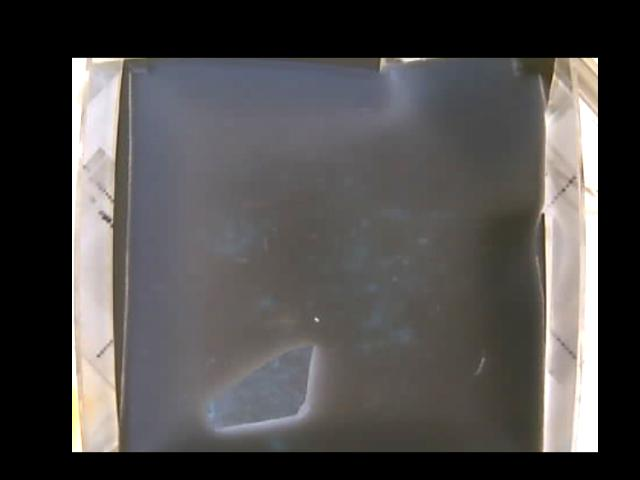China: (209, 342, 311, 426)
